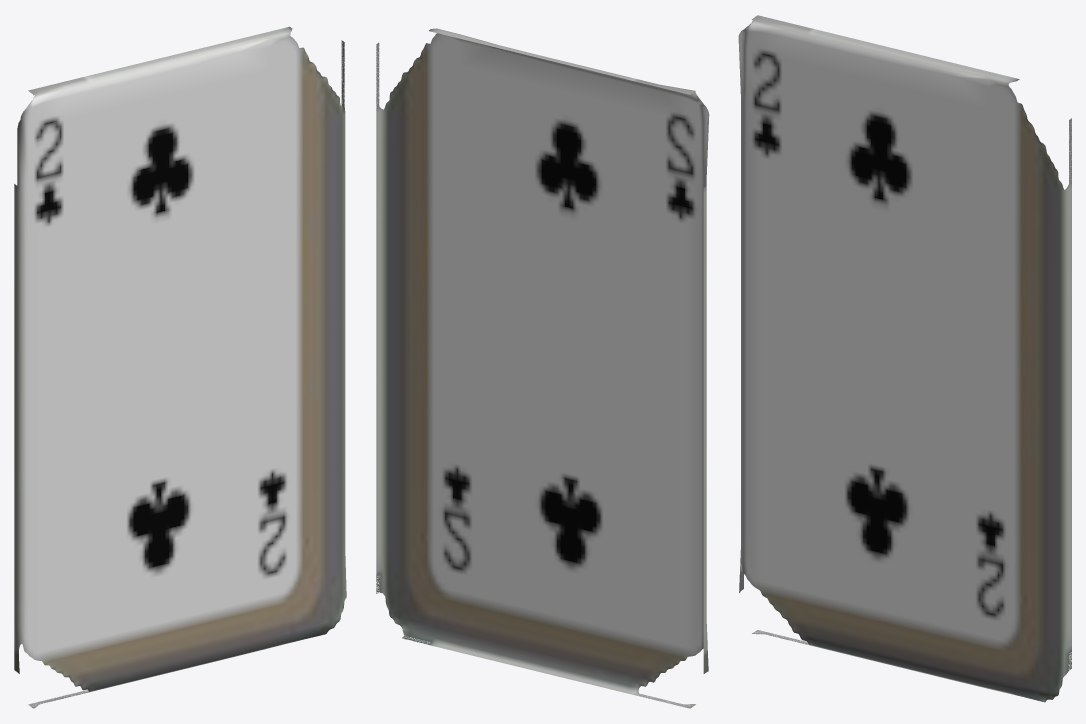
Rendered from EditorCard.fbx.
3 views of the same model, side by side, from view 1: azimuth 30°, elevation 25°; view 2: azimuth 150°, elevation 25°; view 3: azimuth 330°, elevation 25° (orthographic).
Parts seen in each view (by area): view 1: Plane001; view 2: Plane001; view 3: Plane001.
Boxes of the visible parts, x1=… form: Plane001: x1=14, y1=26, x2=346, y2=708; Plane001: x1=376, y1=28, x2=709, y2=708; Plane001: x1=738, y1=15, x2=1071, y2=702.
Bounding box in the file's own units: 32.05 × 57.4 × 1.
